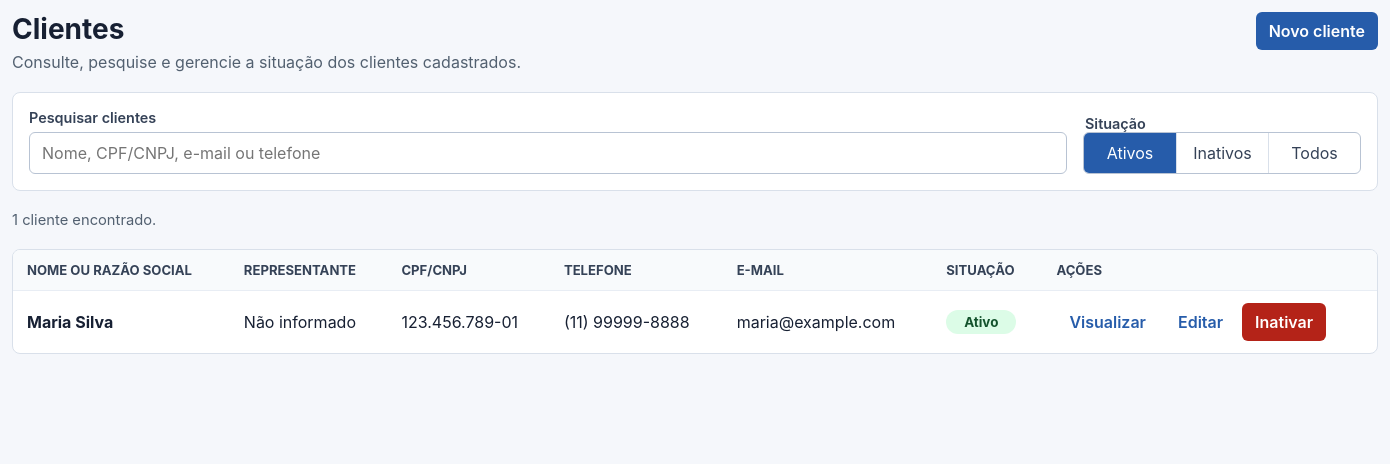
Test: CustomerListPage › shows empty state for search without results
Expected: the text "Maria Silva" is shown, [27,312,113,332]
Step 1. Type "xpto" into the search field labelled "Pesquisar clientes" → (548, 153), box [29,132,1067,174]
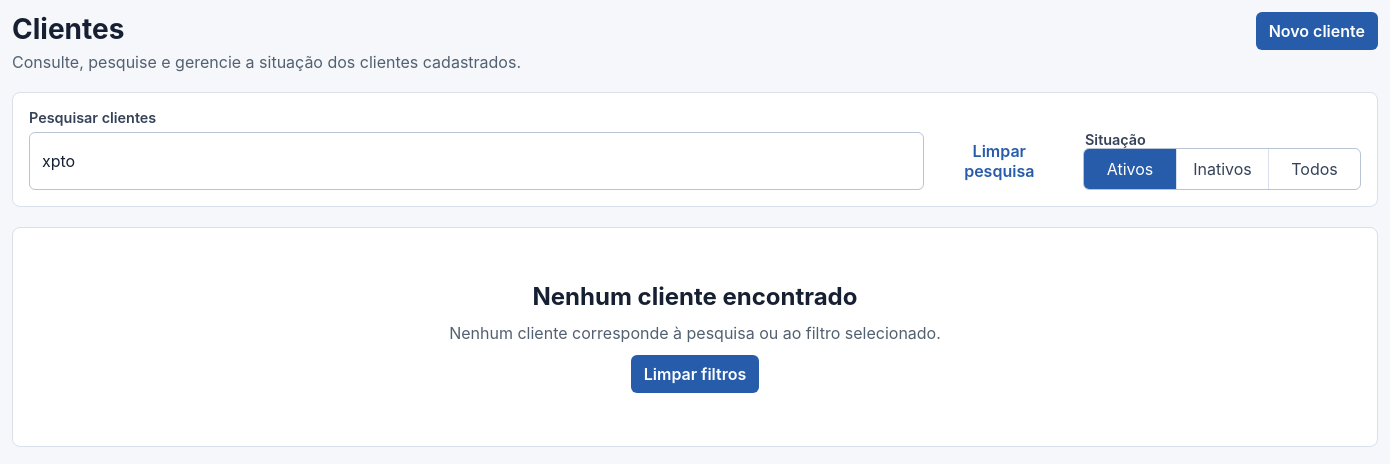
Result: the heading "Nenhum cliente encontrado" is shown at [532,282,857,310]
Result: the button "Limpar filtros" is shown at [631,354,759,392]
